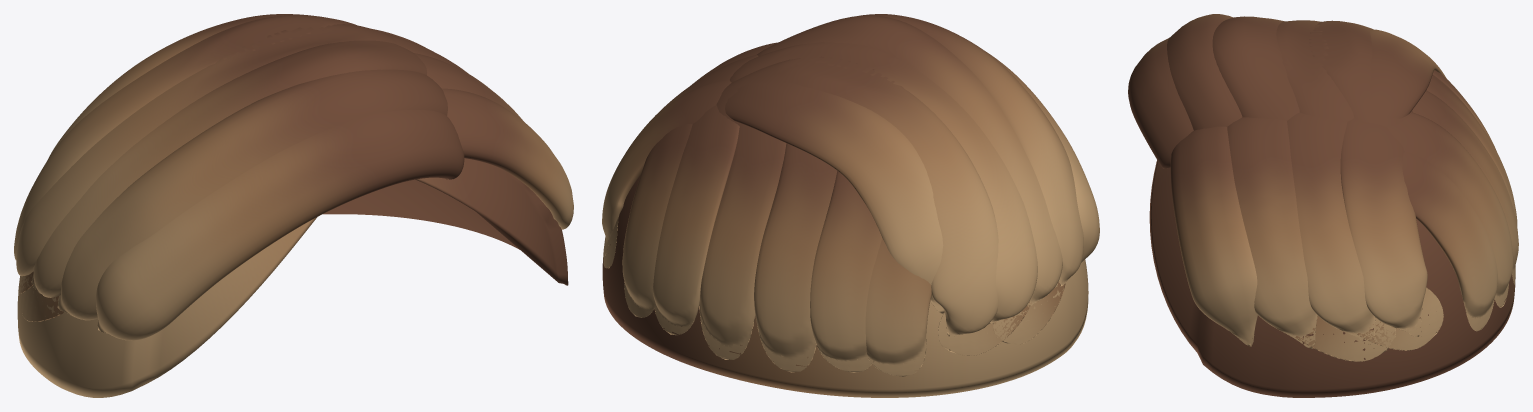
File: Ombre-988428c4273d253-hair.glb
3 views of the same model, side by side, from view 1: azimuth 30°, elevation 25°; view 2: azimuth 150°, elevation 25°; view 3: azimuth 270°, elevation 25° (orthographic). The views are drawn at different scales.
Visible parts, largest first — view 1: 226 hair / Hair / sculpted 0.001, 226 hair / Hair / sculpted 1.001, 226 hair / Hair / sculpted 1.002, 226 hair / Hair / sculpted 2.001; view 2: 226 hair / Hair / sculpted 1.001, 226 hair / Hair / sculpted 0.001, 226 hair / Hair / sculpted 2.001, 226 hair / Hair / sculpted 1.002; view 3: 226 hair / Hair / sculpted 0.001, 226 hair / Hair / sculpted 1.001, 226 hair / Hair / sculpted 2.001, 226 hair / Hair / sculpted 1.002.
Boxes of the visible parts, <box> form: 226 hair / Hair / sculpted 0.001: <box>16,24,573,340</box>; 226 hair / Hair / sculpted 1.001: <box>14,14,523,322</box>; 226 hair / Hair / sculpted 1.002: <box>17,158,568,397</box>; 226 hair / Hair / sculpted 2.001: <box>31,33,468,297</box>; 226 hair / Hair / sculpted 1.001: <box>603,14,1083,372</box>; 226 hair / Hair / sculpted 0.001: <box>602,41,1099,376</box>; 226 hair / Hair / sculpted 2.001: <box>622,15,1062,372</box>; 226 hair / Hair / sculpted 1.002: <box>602,174,1088,397</box>; 226 hair / Hair / sculpted 0.001: <box>1128,20,1518,346</box>; 226 hair / Hair / sculpted 1.001: <box>1167,14,1513,361</box>; 226 hair / Hair / sculpted 2.001: <box>1212,16,1517,344</box>; 226 hair / Hair / sculpted 1.002: <box>1149,160,1515,397</box>.
Bounding box in the file's own units: 0.9759 × 0.5554 × 0.7604.
Materials: 4 (4 with a texture image).
